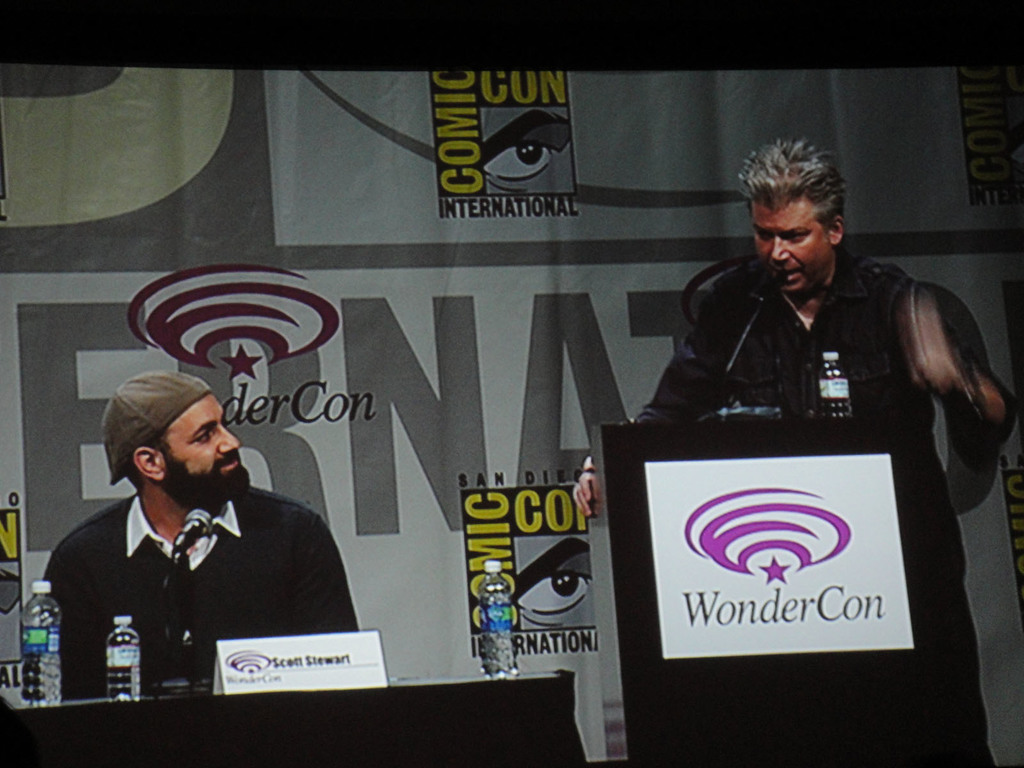Human-face: (166, 388, 237, 492), (753, 205, 833, 286)
